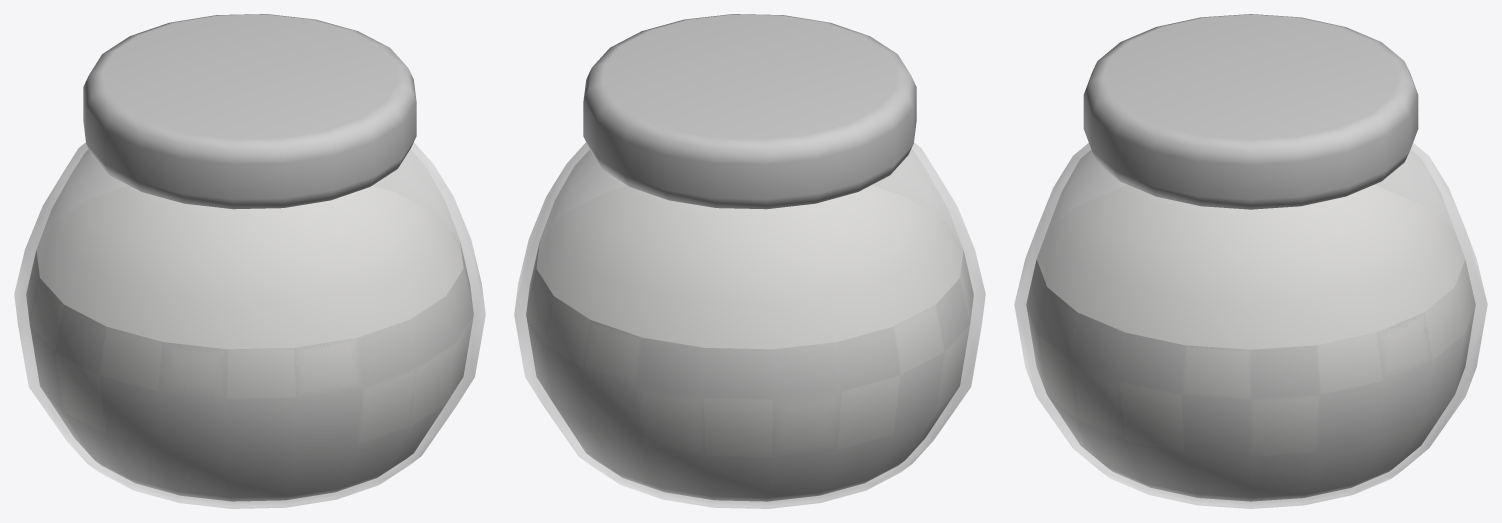
File: Jar_16.fbx
3 views of the same model, side by side, from view 1: azimuth 30°, elevation 25°; view 2: azimuth 150°, elevation 25°; view 3: azimuth 270°, elevation 25° (orthographic).
Parts seen in each view (by area): view 1: Jar_16; view 2: Jar_16; view 3: Jar_16.
Part boxes in pixels (x1,y1,x2,y2): Jar_16: (14, 14, 485, 508); Jar_16: (514, 14, 985, 508); Jar_16: (1014, 14, 1487, 508).
Size of the model in its own units: 21.88 by 18.51 by 21.87.
